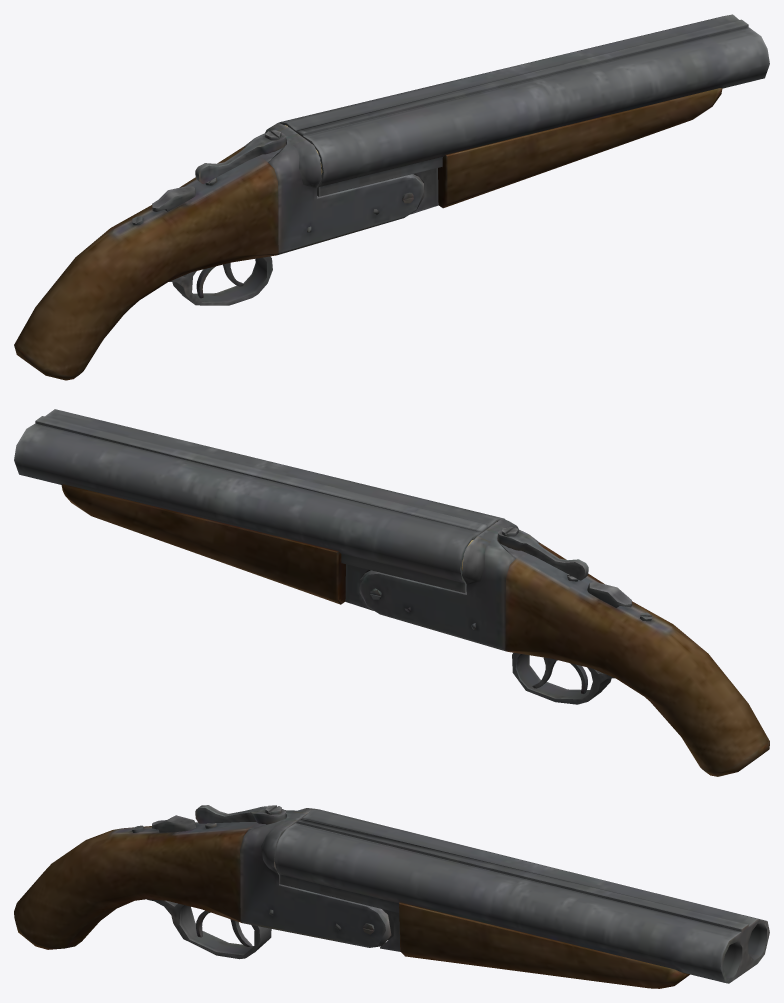
File: sawnoffs_lod1.glb
The picture shows the model from 3 angles, top to bottom: view 1: azimuth 30°, elevation 25°; view 2: azimuth 150°, elevation 25°; view 3: azimuth 330°, elevation 25°; orthographic projection.
Visible parts, largest first — view 1: front, base, base_2; view 2: front, base, base_2; view 3: front, base, base_2.
Boxes of the visible parts, left/top/right/bottom form: front: left=279, top=14, right=769, bottom=214; base: left=14, top=122, right=424, bottom=380; base_2: left=195, top=132, right=285, bottom=184; front: left=14, top=409, right=504, bottom=610; base: left=359, top=518, right=769, bottom=776; base_2: left=498, top=529, right=588, bottom=580; front: left=274, top=809, right=769, bottom=988; base: left=14, top=805, right=391, bottom=959; base_2: left=195, top=805, right=285, bottom=824.
Bounding box in the file's own units: 0.5199 × 0.1281 × 0.0614.
Materials: 1 (1 with a texture image).
